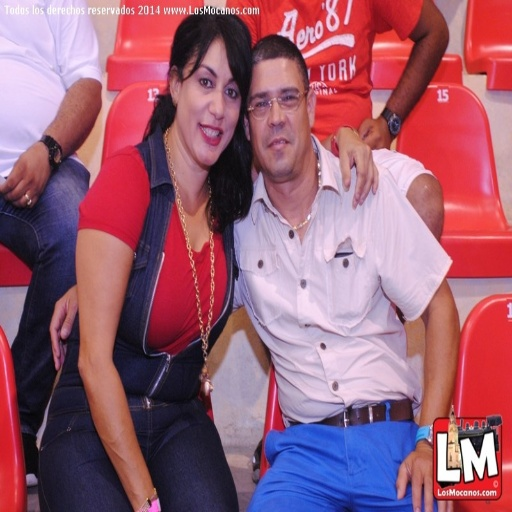hand: (393, 446, 453, 510), (334, 126, 378, 208), (2, 125, 46, 202), (49, 283, 79, 370), (355, 114, 389, 146)
